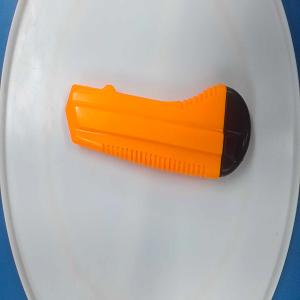estilete: (64, 83, 251, 179)
